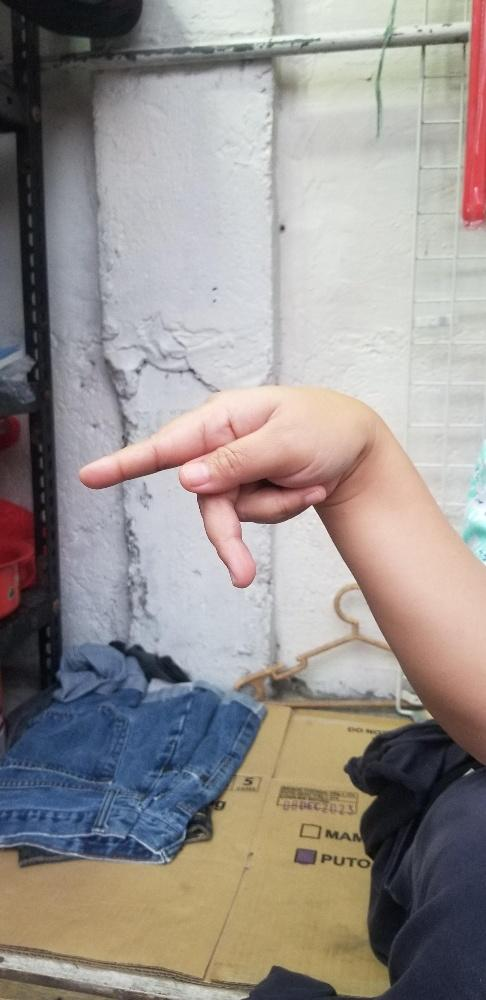p: (78, 383, 377, 586)
